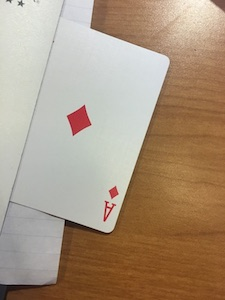AceOfDiamonds: (7, 16, 170, 235)
